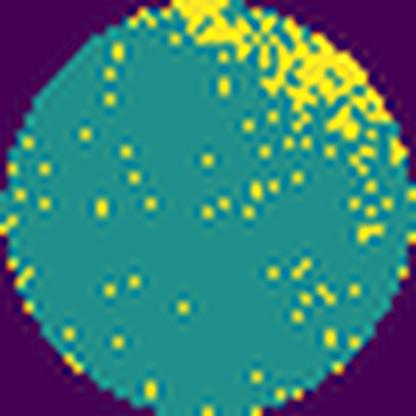Edge-Loc: (167, 0, 401, 153)
